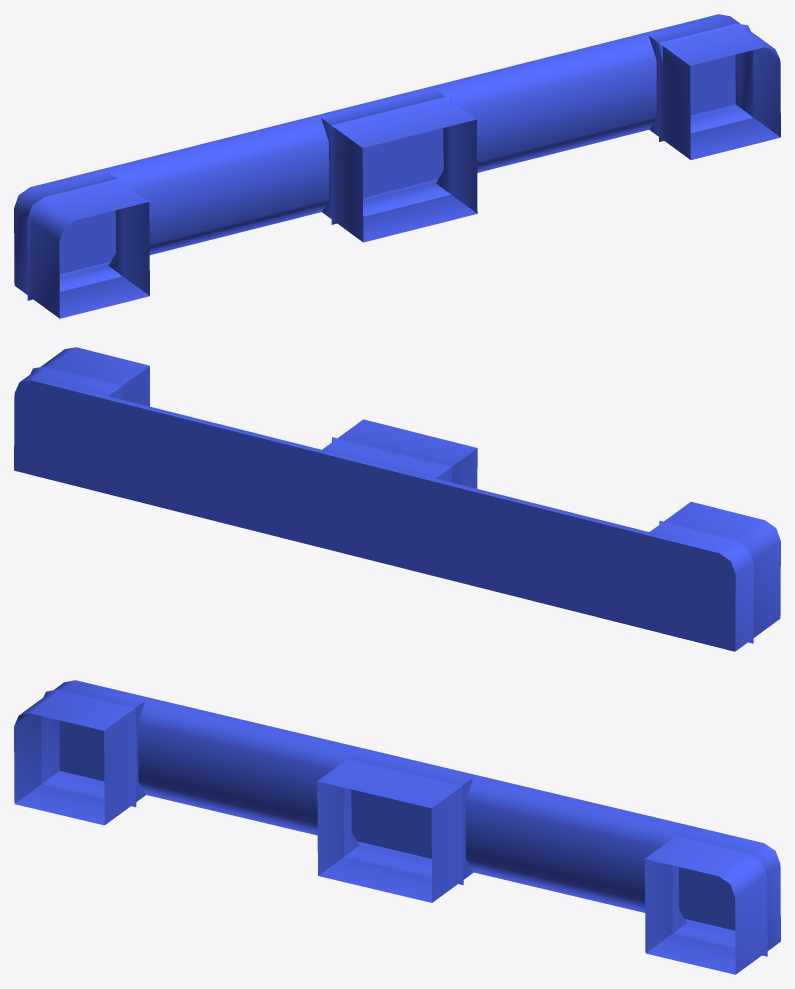
The model's file is pallet4.dae.
The picture shows the model from 3 angles, top to bottom: view 1: azimuth 30°, elevation 25°; view 2: azimuth 150°, elevation 25°; view 3: azimuth 330°, elevation 25°; orthographic projection.
Visible parts, largest first — view 1: Object_9.003; view 2: Object_9.003; view 3: Object_9.003.
Part boxes in pixels (<box>): Object_9.003: <box>14,14,780,318</box>; Object_9.003: <box>14,347,780,651</box>; Object_9.003: <box>14,680,780,974</box>.
Bounding box in the file's own units: 1.09 × 0.1182 × 0.1506.
